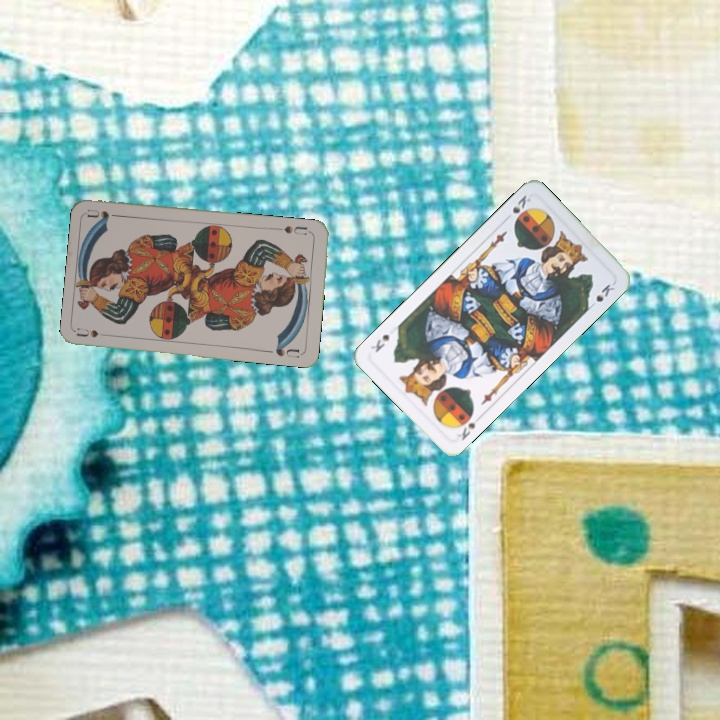SK: (508, 191, 533, 216), (453, 419, 478, 443)
SU: (273, 222, 314, 238), (74, 324, 115, 340)
